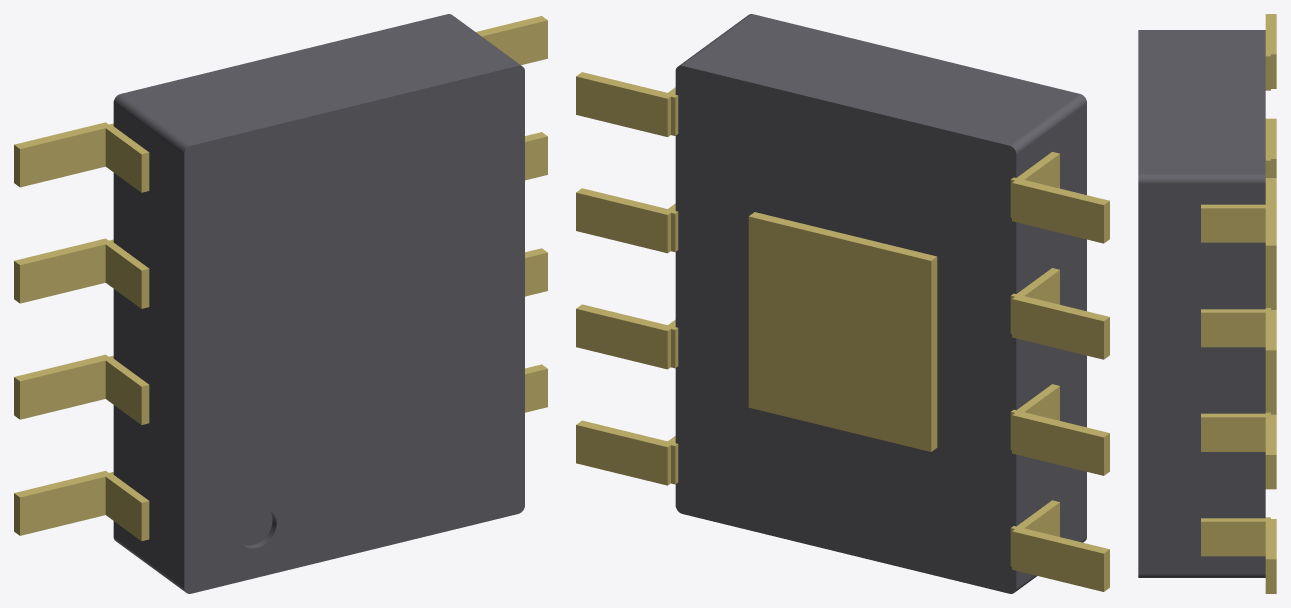
3 views of the same model, side by side, from view 1: azimuth 30°, elevation 25°; view 2: azimuth 150°, elevation 25°; view 3: azimuth 270°, elevation 25° (orthographic). The views are drawn at different scales.
Visible parts, largest first — view 1: extra, pins; view 2: extra, pins; view 3: extra, pins.
Boxes of the visible parts, left/top/right/bottom form: extra: left=113, top=14, right=524, bottom=593; pins: left=14, top=16, right=547, bottom=541; extra: left=675, top=14, right=1086, bottom=593; pins: left=576, top=72, right=1109, bottom=591; extra: left=1138, top=30, right=1265, bottom=577; pins: left=1201, top=14, right=1276, bottom=593.
Size of the model in its own units: 6.04 by 4.9 by 1.52.
